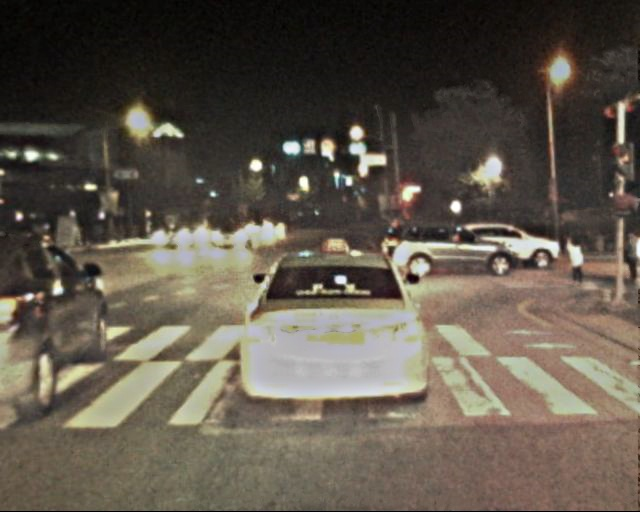person: (564, 228, 590, 288), (618, 228, 640, 286)
